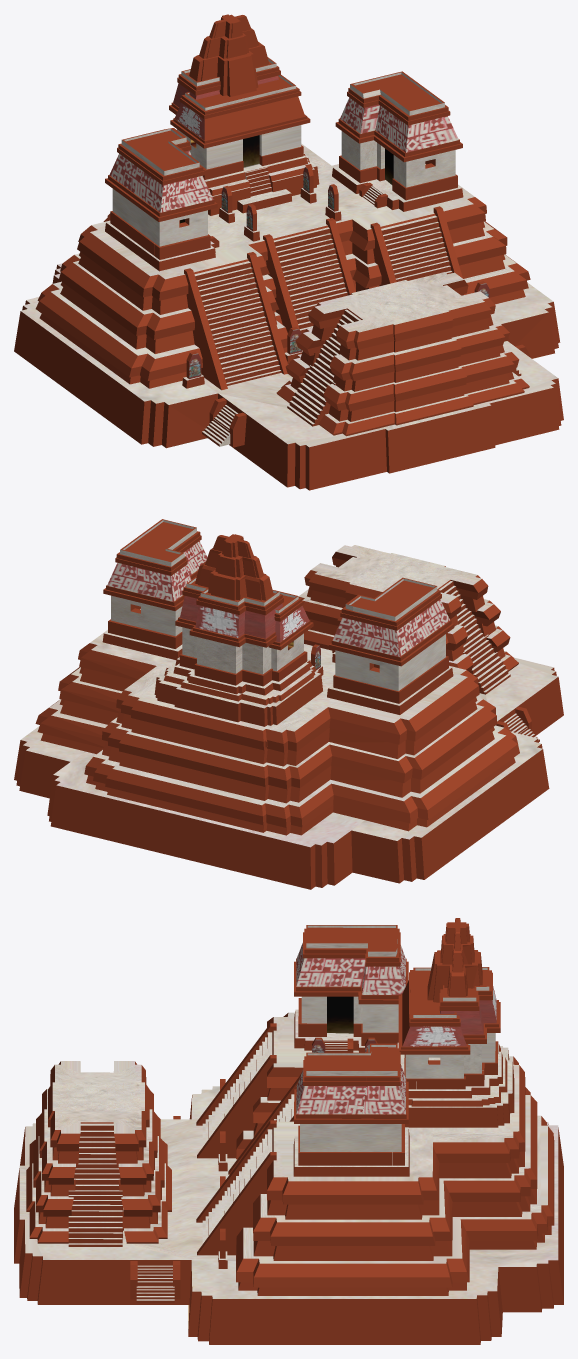
Rendered from observatorio_2.dae.
3 renders of one model, top to bottom at view 1: azimuth 30°, elevation 25°; view 2: azimuth 150°, elevation 25°; view 3: azimuth 270°, elevation 25°, orthographic. The views are drawn at different scales.
Parts seen in each view (by area): view 1: obser_2; view 2: obser_2; view 3: obser_2.
Part boxes in pixels (bbox=[...]): obser_2: bbox=[14, 14, 563, 490]; obser_2: bbox=[14, 519, 563, 889]; obser_2: bbox=[14, 918, 563, 1344].
Bounding box in the file's own units: 35.7 × 38.13 × 23.63.
